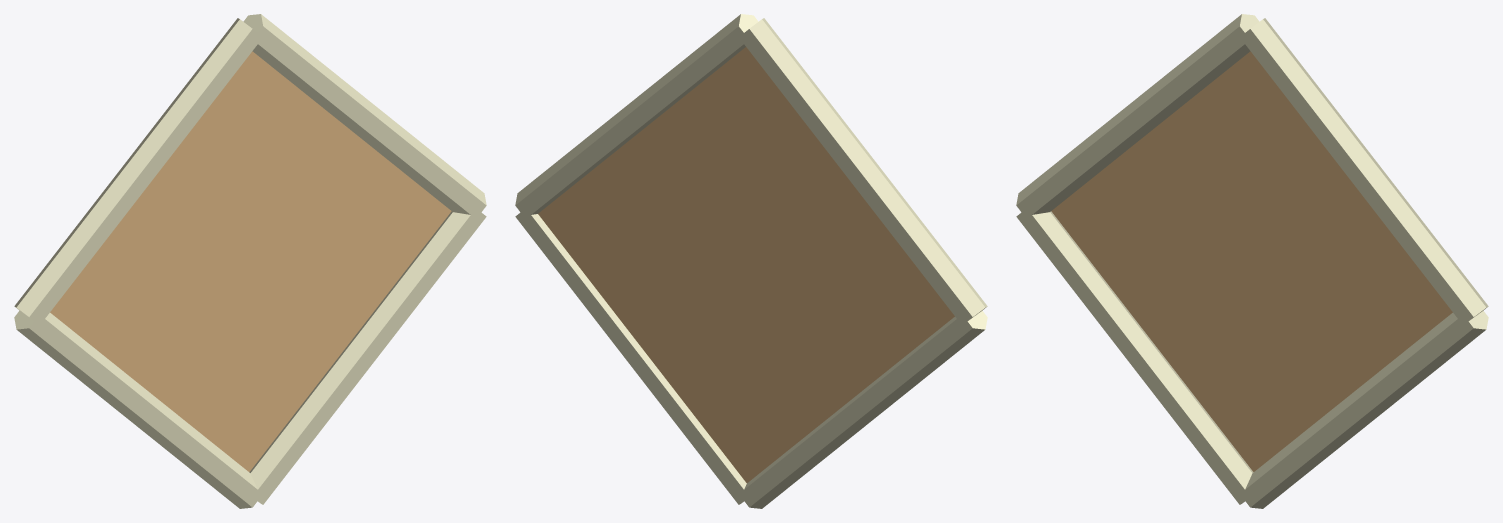
Rendered from simbolo_rombo.glb.
3 renders of one model, left to right at view 1: azimuth 30°, elevation 25°; view 2: azimuth 150°, elevation 25°; view 3: azimuth 330°, elevation 25°, orthographic.
Visible parts, largest first — view 1: simbolo_rombo; view 2: simbolo_rombo; view 3: simbolo_rombo.
Part boxes in pixels (x1=…): simbolo_rombo: x1=14, y1=14, x2=486, y2=508; simbolo_rombo: x1=515, y1=14, x2=987, y2=508; simbolo_rombo: x1=1016, y1=14, x2=1488, y2=508.
Bounding box in the file's own units: 0.8796 × 0.8796 × 0.0485.
